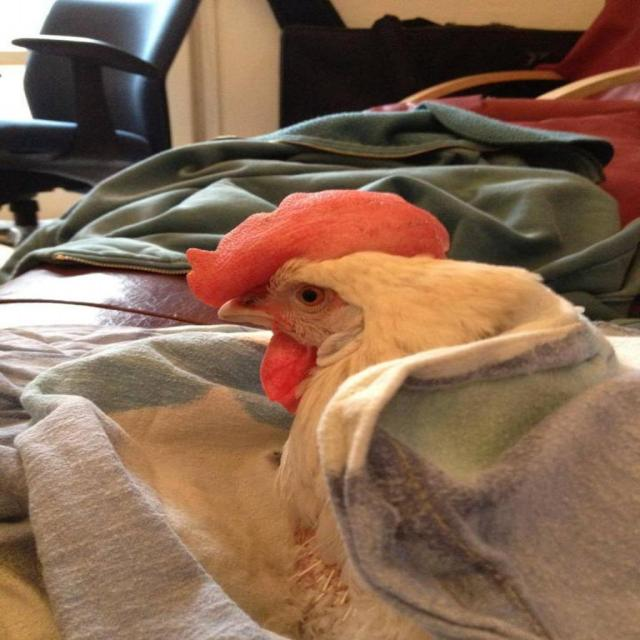Chicken: (178, 192, 639, 640)
